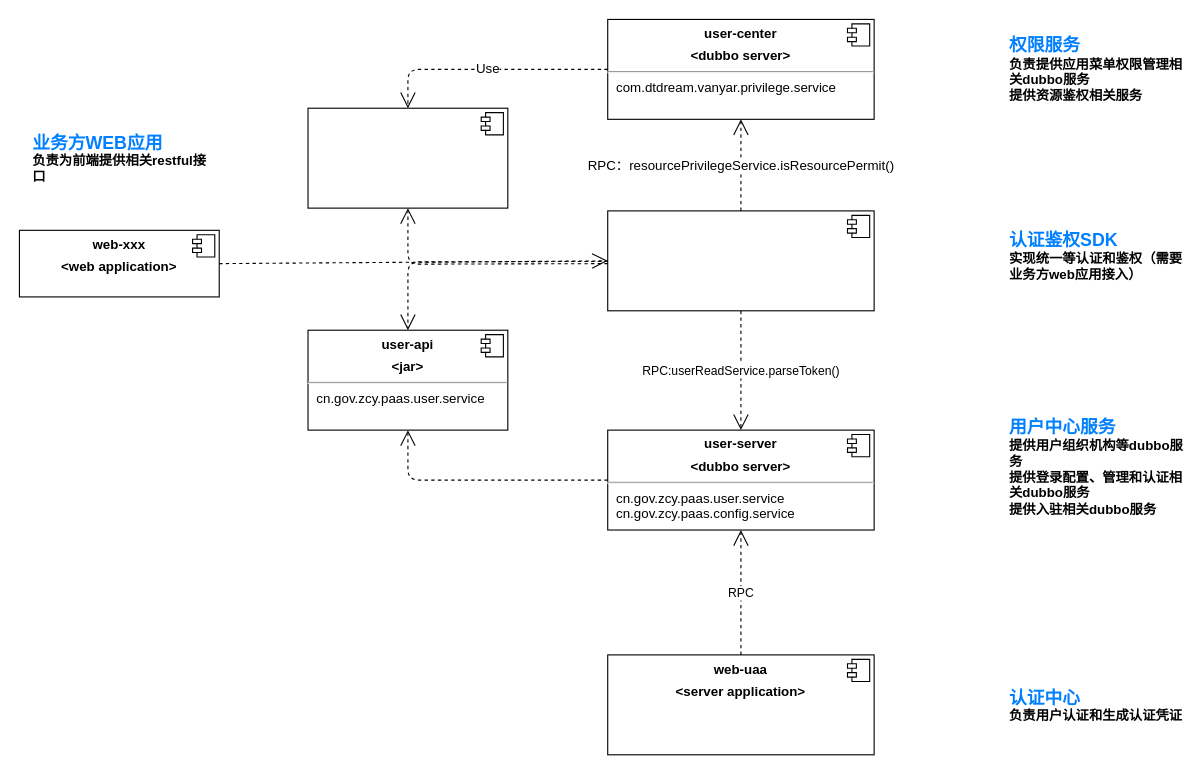
The diagram is 1204 pixels wide and 775 high, and some of its shapes have lost their labels. The shapes that lost their labels are listed below. From the top down, each one's box as (x1, y1, x2, y2) in pixels, then its label:
(307, 107, 508, 208): privilege-api <jar> com.dtdream.vanyar.privilege.service
(607, 210, 874, 311): web-auth <jar> cn.gov.zcy.paas.web.auth.interceptor
